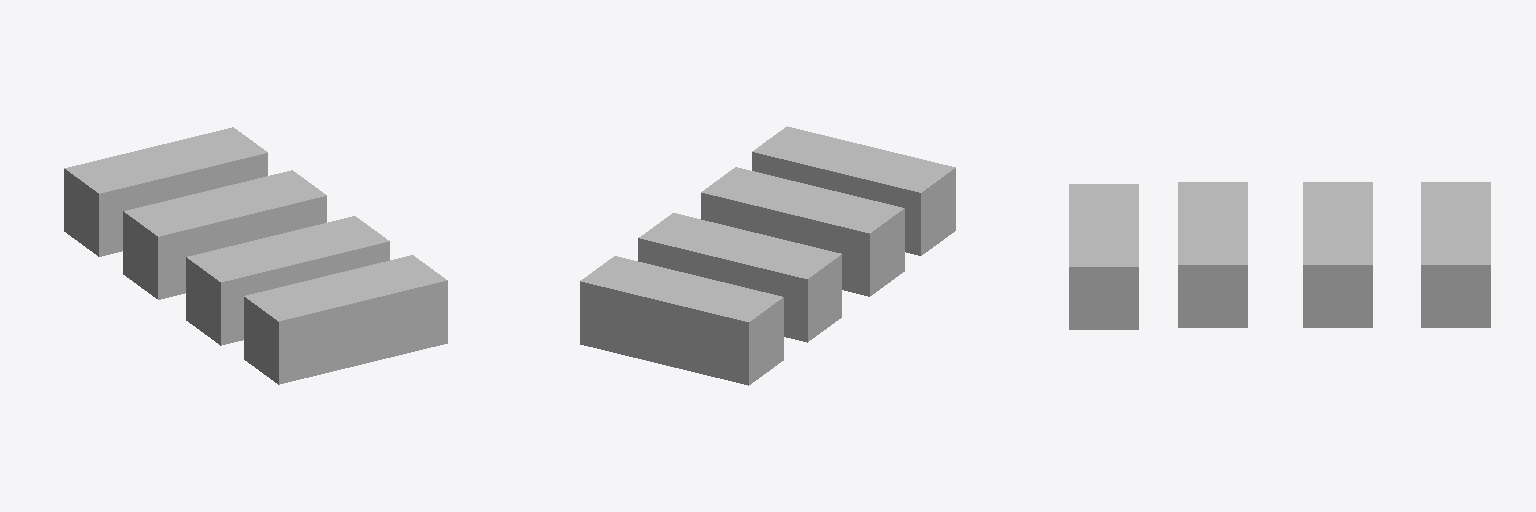
Rendered from T_Techo.obj.
3 views of the same model, side by side, from view 1: azimuth 30°, elevation 25°; view 2: azimuth 150°, elevation 25°; view 3: azimuth 270°, elevation 25° (orthographic).
Parts seen in each view (by area): view 1: T_Techo4, T_Techo1, T_Techo3, T_Techo2; view 2: T_Techo3, T_Techo2, T_Techo1, T_Techo4; view 3: T_Techo1, T_Techo2, T_Techo3, T_Techo4.
Part boxes in pixels (left/top/right/bottom): T_Techo4: left=244, top=255, right=447, bottom=384; T_Techo1: left=123, top=170, right=326, bottom=299; T_Techo3: left=64, top=127, right=267, bottom=256; T_Techo2: left=186, top=216, right=389, bottom=345; T_Techo3: left=580, top=256, right=783, bottom=385; T_Techo2: left=701, top=167, right=904, bottom=296; T_Techo1: left=638, top=213, right=841, bottom=342; T_Techo4: left=752, top=126, right=955, bottom=255; T_Techo1: left=1303, top=182, right=1372, bottom=327; T_Techo2: left=1178, top=182, right=1247, bottom=327; T_Techo3: left=1421, top=182, right=1490, bottom=327; T_Techo4: left=1069, top=184, right=1138, bottom=329.
Size of the model in its own units: 2.86 by 1 by 6.04.